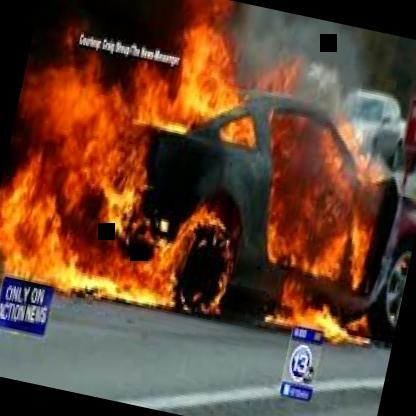fire: (0, 7, 385, 358)
